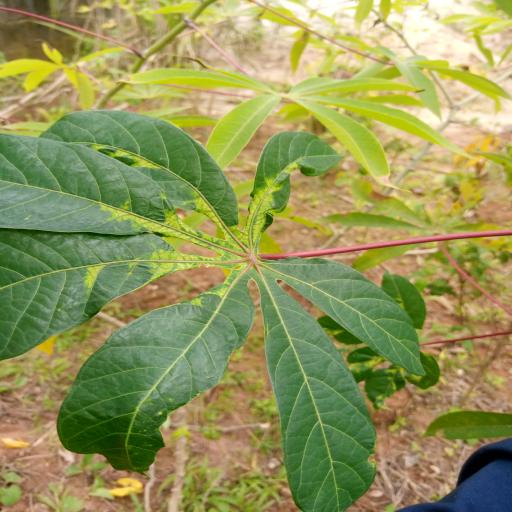Cassava_Mosaic: (0, 110, 430, 512)
